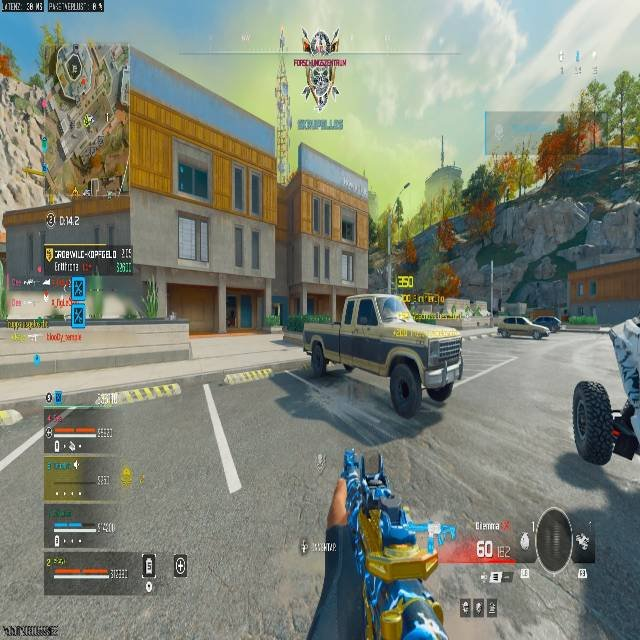player: (271, 303, 278, 317)
